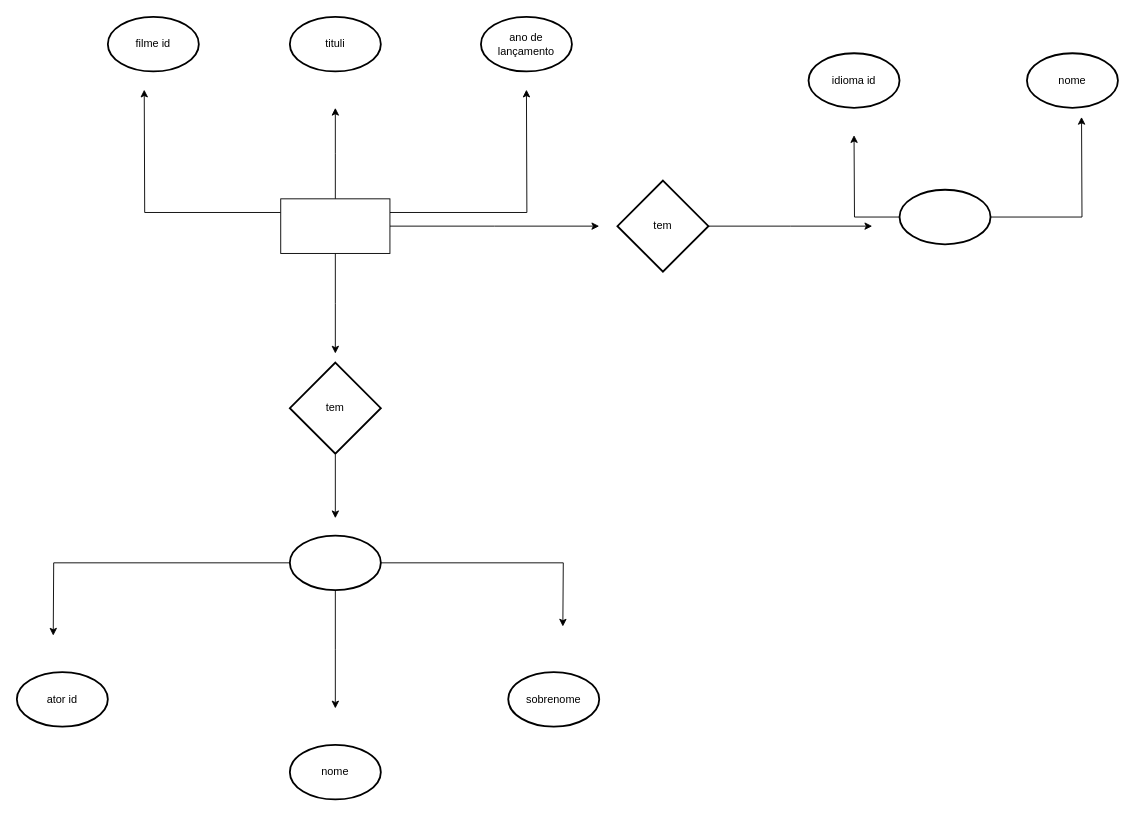
This 1134x815 diagram has some shape labels left out. Here are the shapes that lost their labels. From the top down, the centre of each, then its label:
At (x=335, y=225): "filme".
At (x=944, y=216): "idioma".
At (x=334, y=562): "ator".
